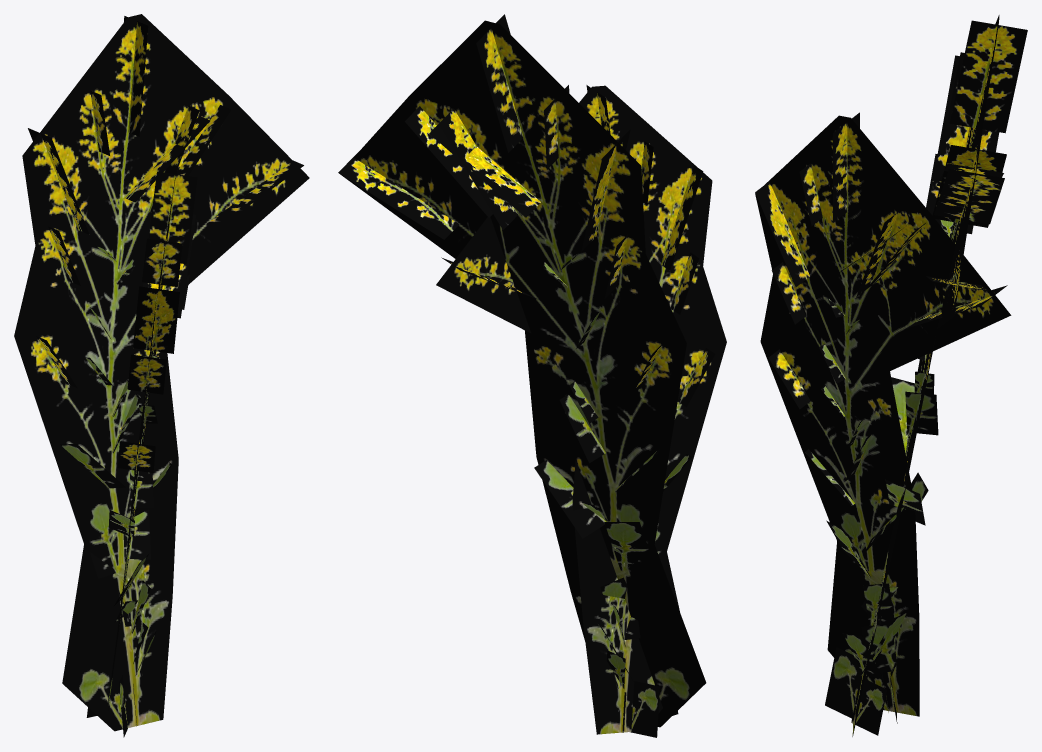
Rendered from 03_barbarea_vulgaris_high_002.fbx.
The picture shows the model from 3 angles, left to right: view 1: azimuth 30°, elevation 25°; view 2: azimuth 150°, elevation 25°; view 3: azimuth 270°, elevation 25°; orthographic projection. The views are drawn at different scales.
Visible parts, largest first — view 1: 03_barbarea_vulgaris_high.002; view 2: 03_barbarea_vulgaris_high.002; view 3: 03_barbarea_vulgaris_high.002.
Part boxes in pixels (x1,y1,x2,y2): 03_barbarea_vulgaris_high.002: [14, 14, 309, 737]; 03_barbarea_vulgaris_high.002: [338, 14, 726, 737]; 03_barbarea_vulgaris_high.002: [755, 15, 1027, 736].
Bounding box in the file's own units: 0.1677 × 0.3468 × 0.1152.
